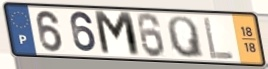6: (135, 11, 166, 59), (68, 10, 98, 56), (35, 9, 65, 54)
L: (202, 15, 236, 61)
M: (92, 10, 144, 59)
Q: (166, 15, 207, 60)
